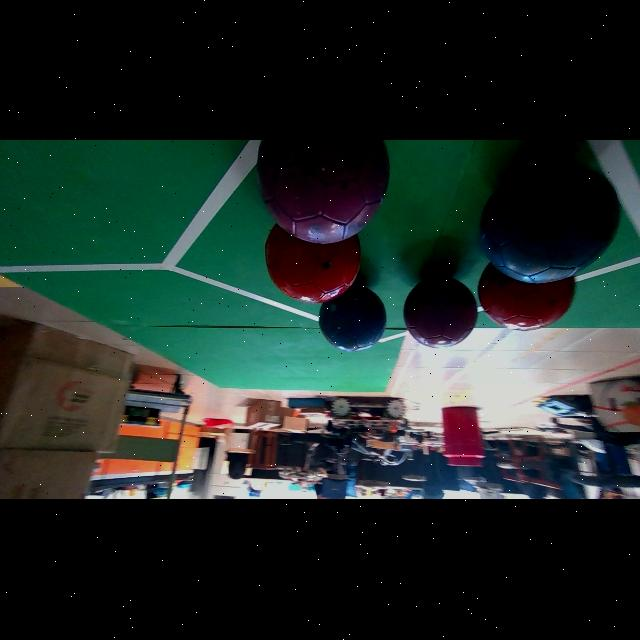B: (481, 161, 620, 284), (319, 285, 386, 352)
P: (257, 140, 389, 245), (403, 277, 477, 349)
R: (266, 225, 360, 304), (478, 264, 574, 330)
